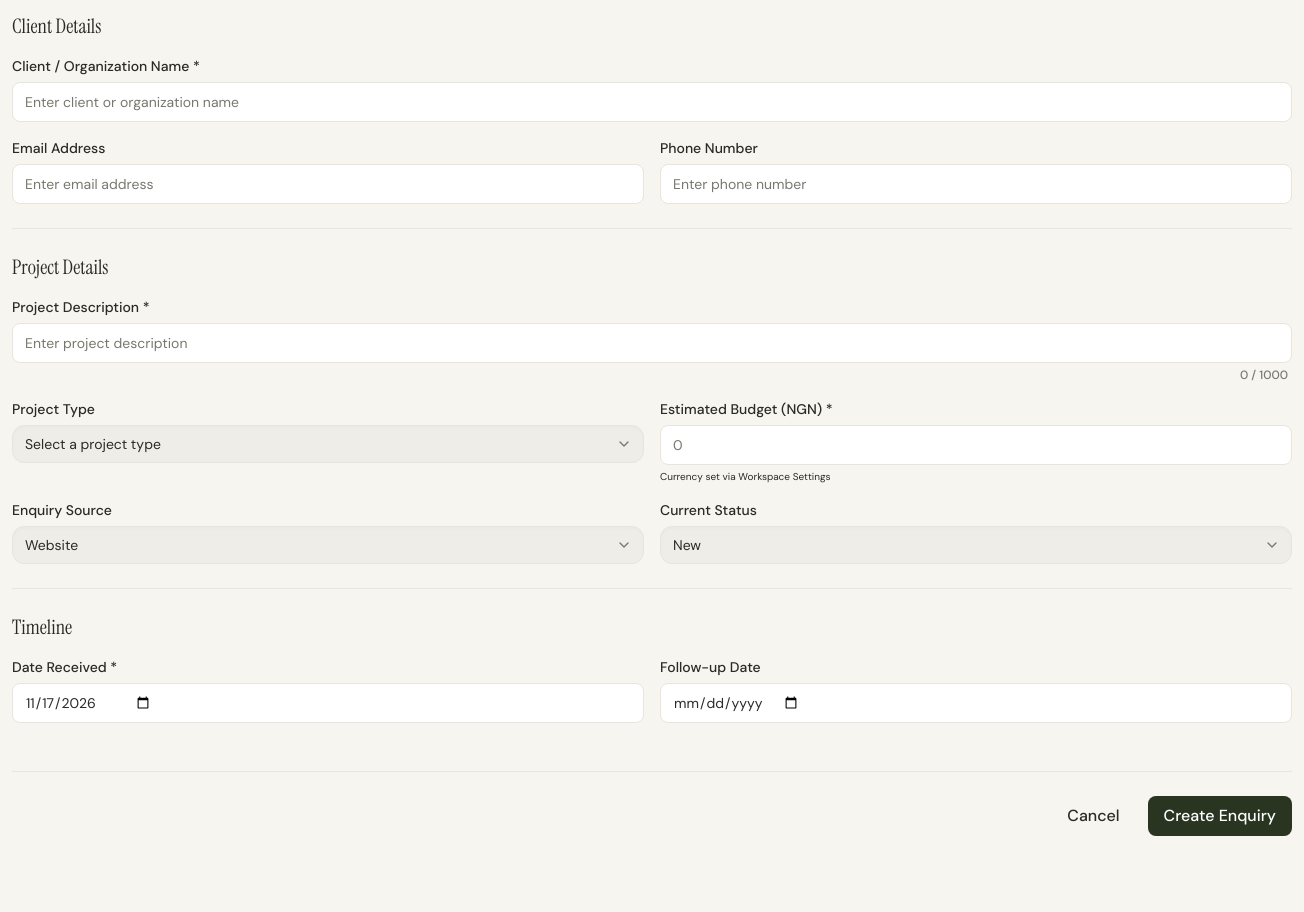
Scenario: Bound Studios enquiry management › rejects an enquiry when the client name is empty
In the field with placeholder "Enter project description": {"x": 652, "y": 343} [12, 323, 1292, 363], type "Website redesign project"
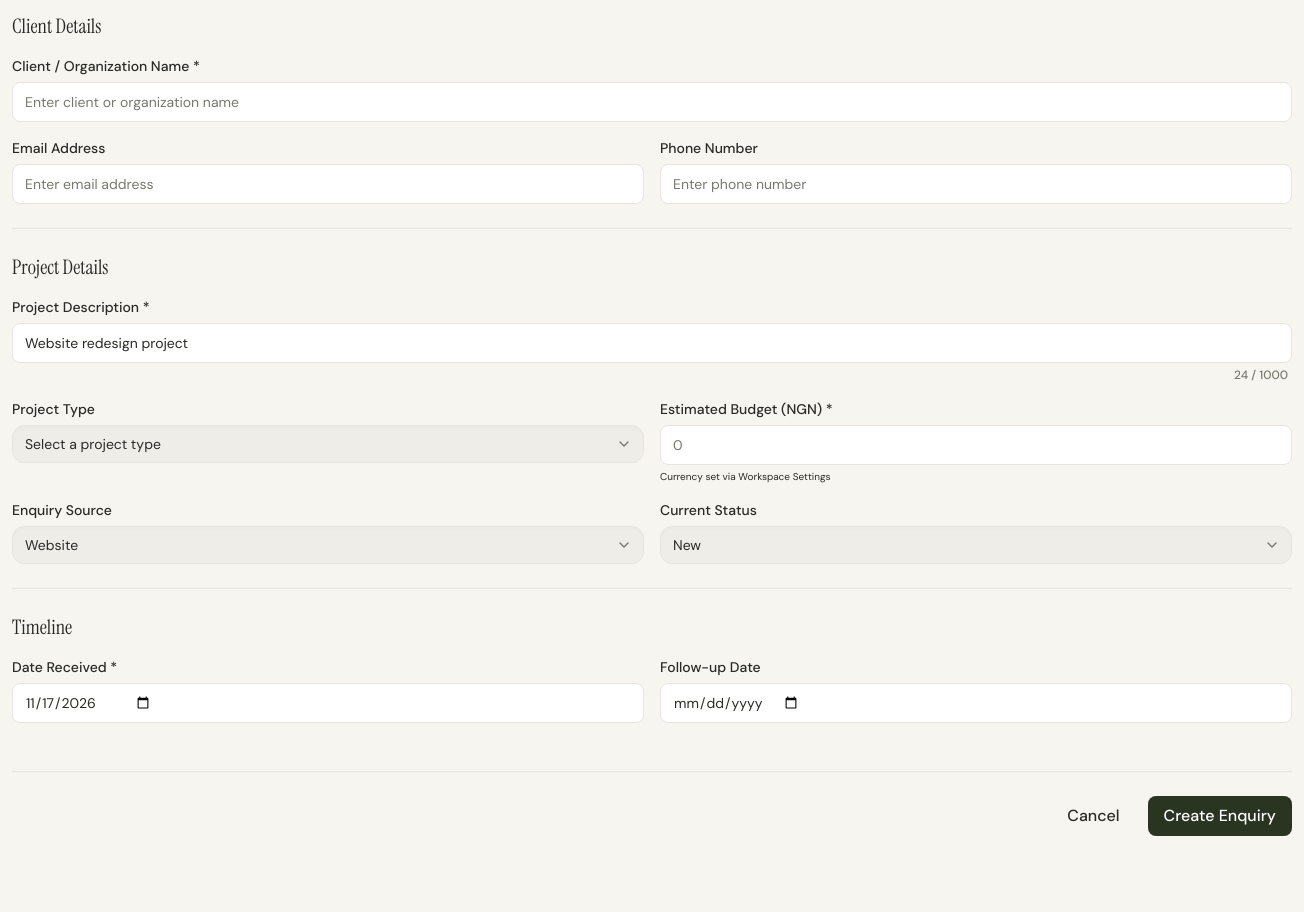
Click the button "Create Enquiry": {"x": 1220, "y": 816} [1148, 796, 1292, 836]
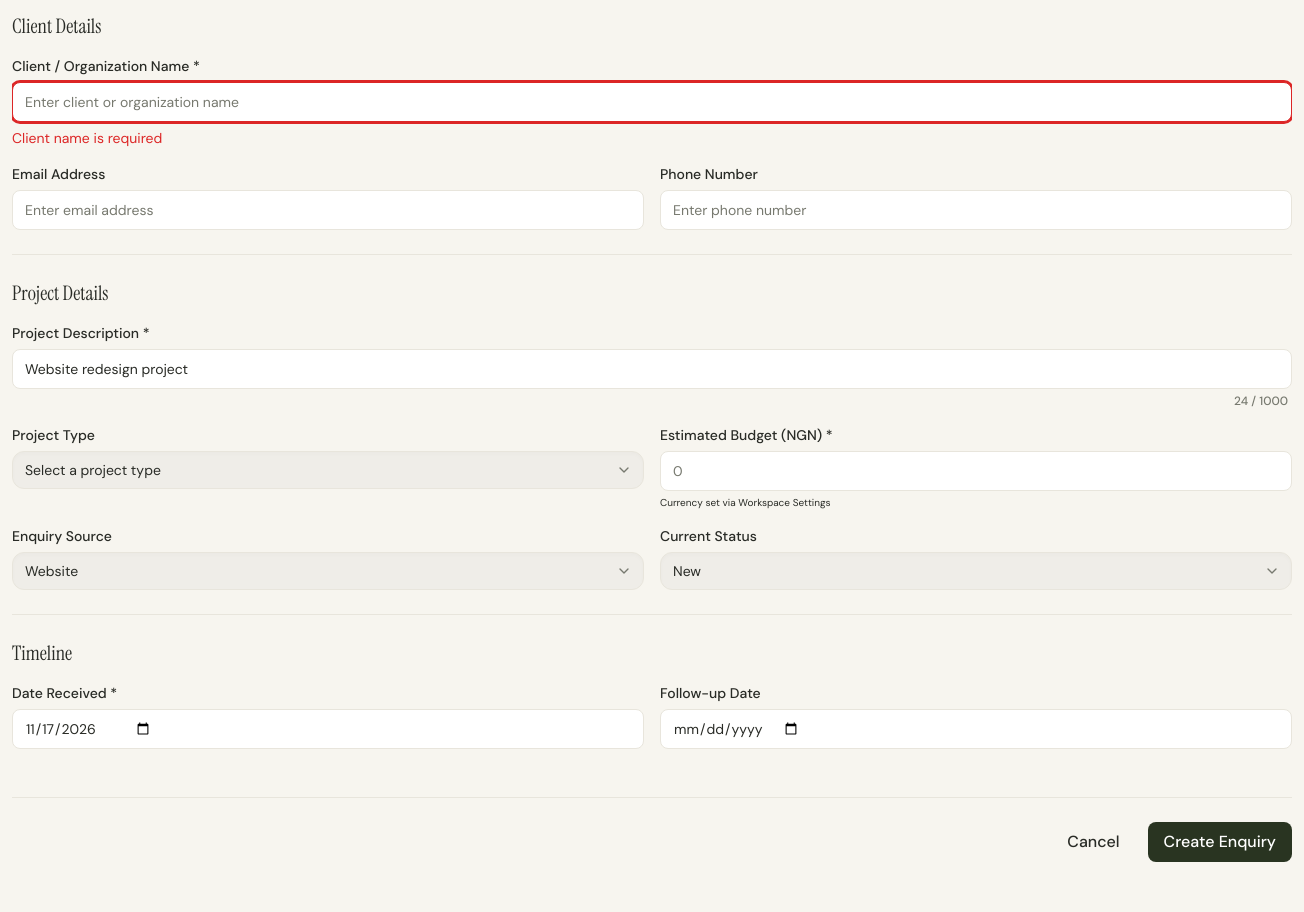
Result: the text "Client name is required" is shown at [12, 129, 162, 147]
